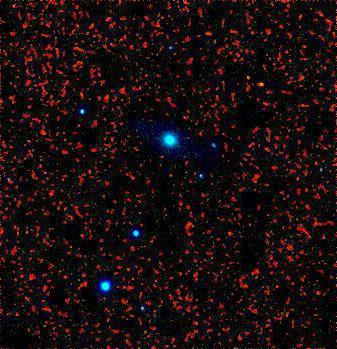star: (237, 69, 267, 99)
